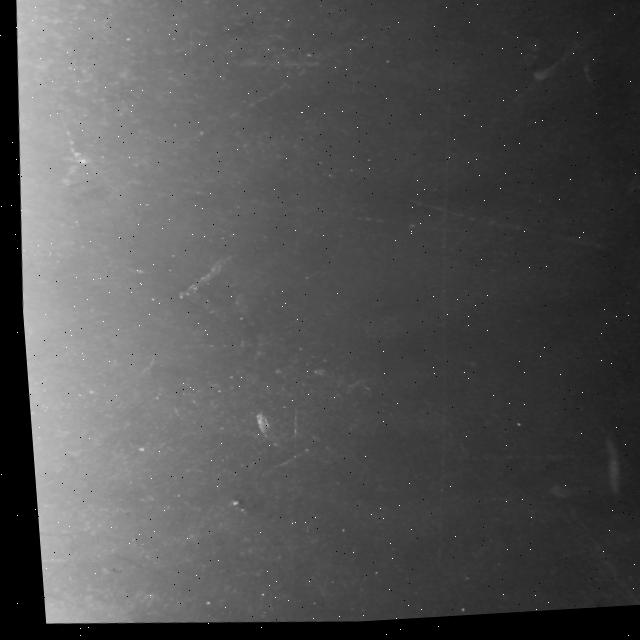beta: (44, 91, 543, 271), (158, 14, 403, 169), (392, 189, 608, 265), (496, 3, 633, 116), (531, 498, 640, 617), (438, 451, 573, 474), (247, 440, 315, 481), (32, 552, 69, 564)
